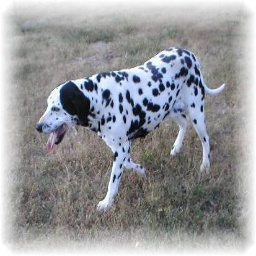dog: (32, 48, 226, 212)
